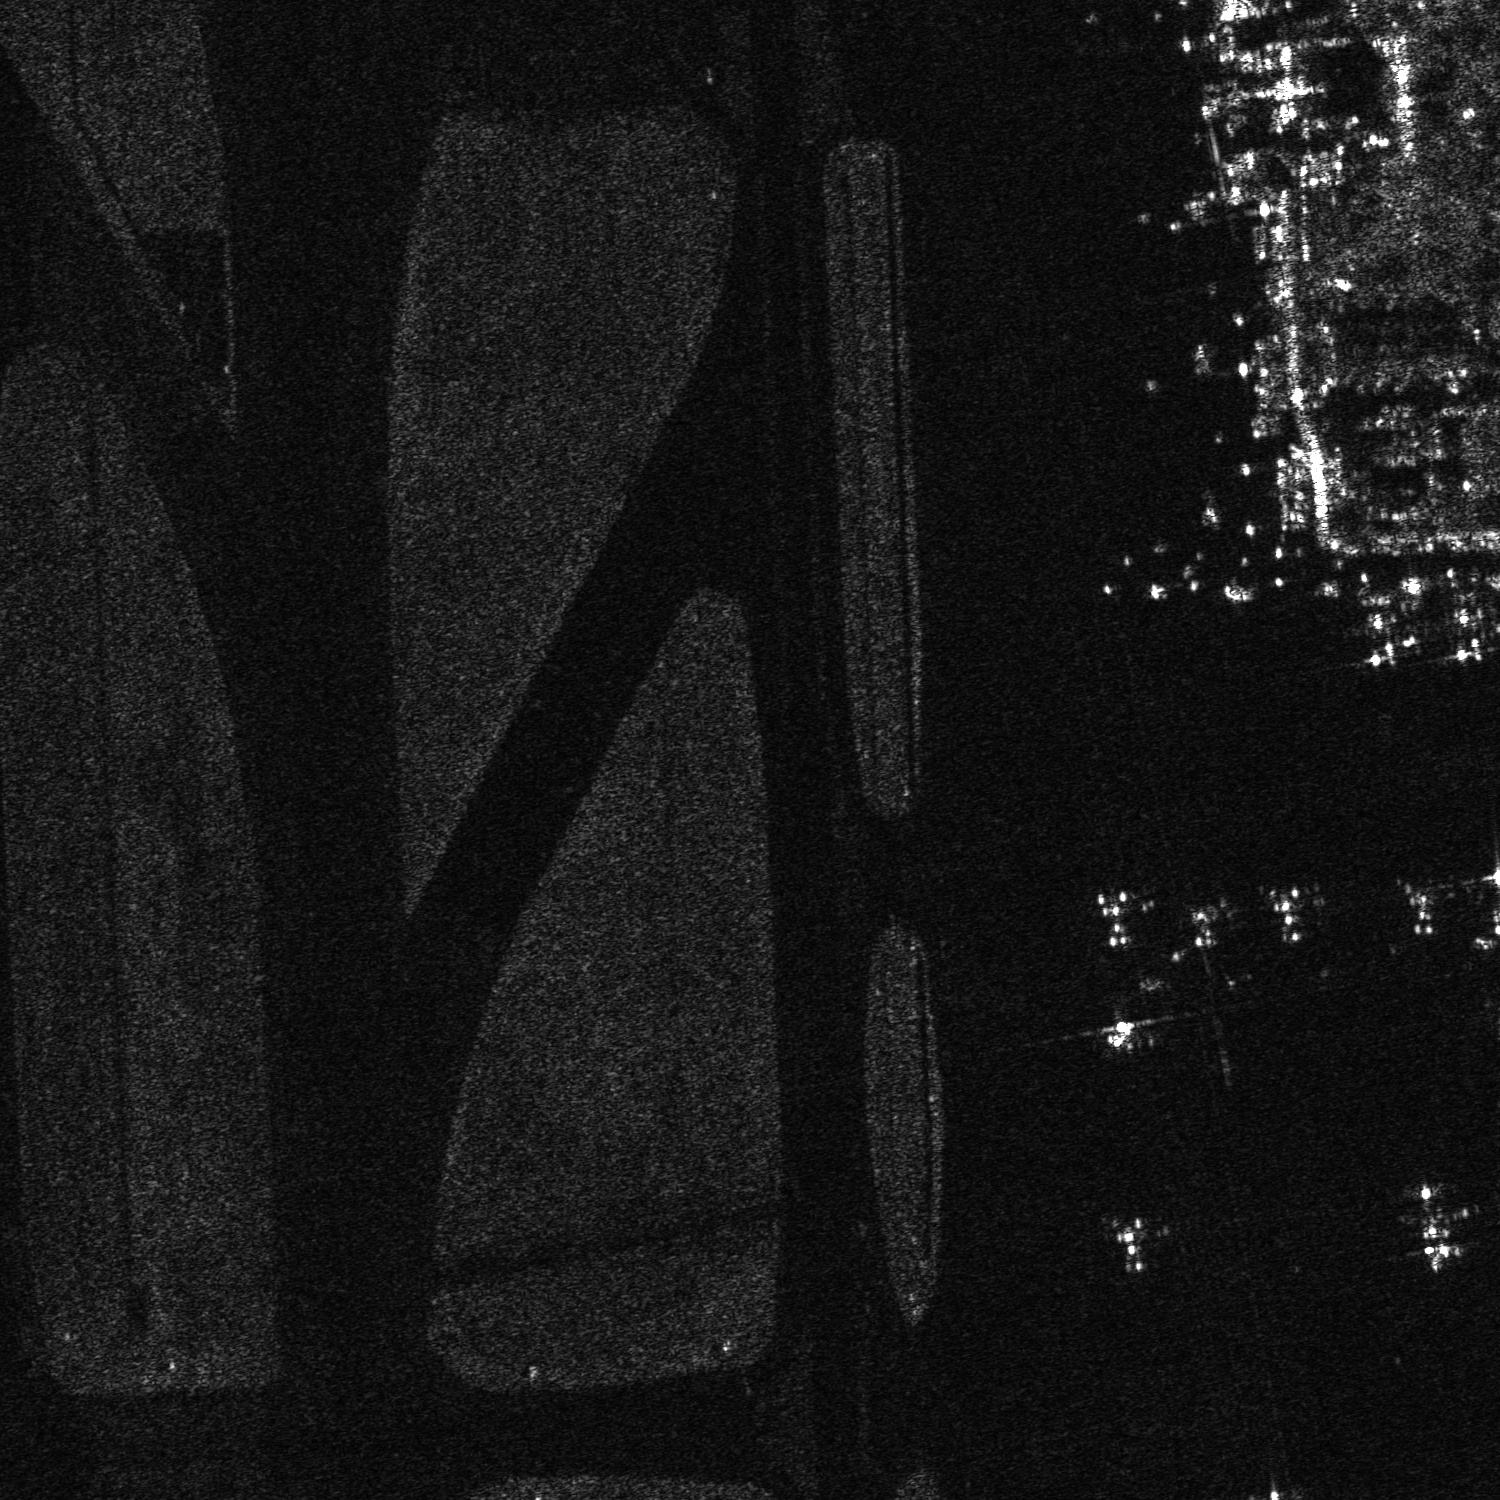ARJ21: (1098, 1209, 1174, 1280), (1091, 1008, 1150, 1060)
Boeing737: (1338, 587, 1427, 668)
other: (1386, 1181, 1484, 1276), (1260, 874, 1326, 951), (1435, 588, 1499, 668), (1087, 882, 1152, 956), (1176, 890, 1238, 957), (1398, 872, 1459, 935)
